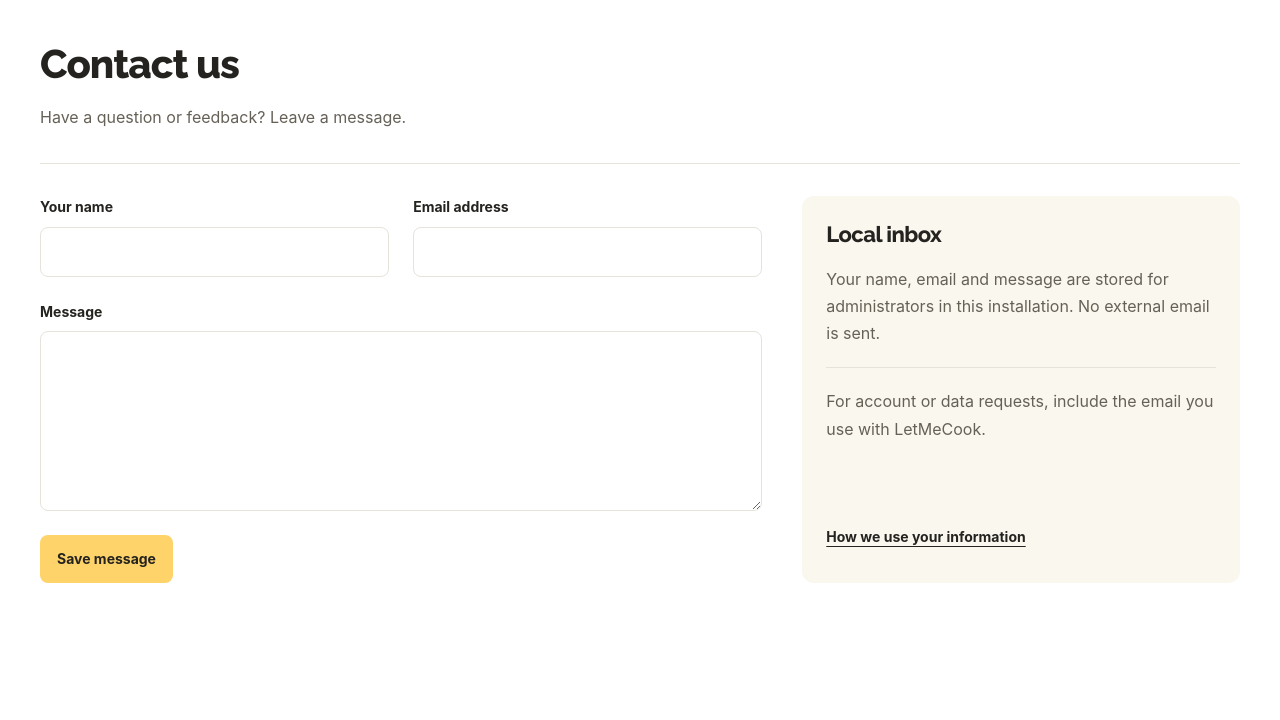
it: contact saves the labelled fields and shows confirmation after the response
Type "Kitchen User" into the field labelled "Your name" at (215, 252), box [40, 227, 389, 277]
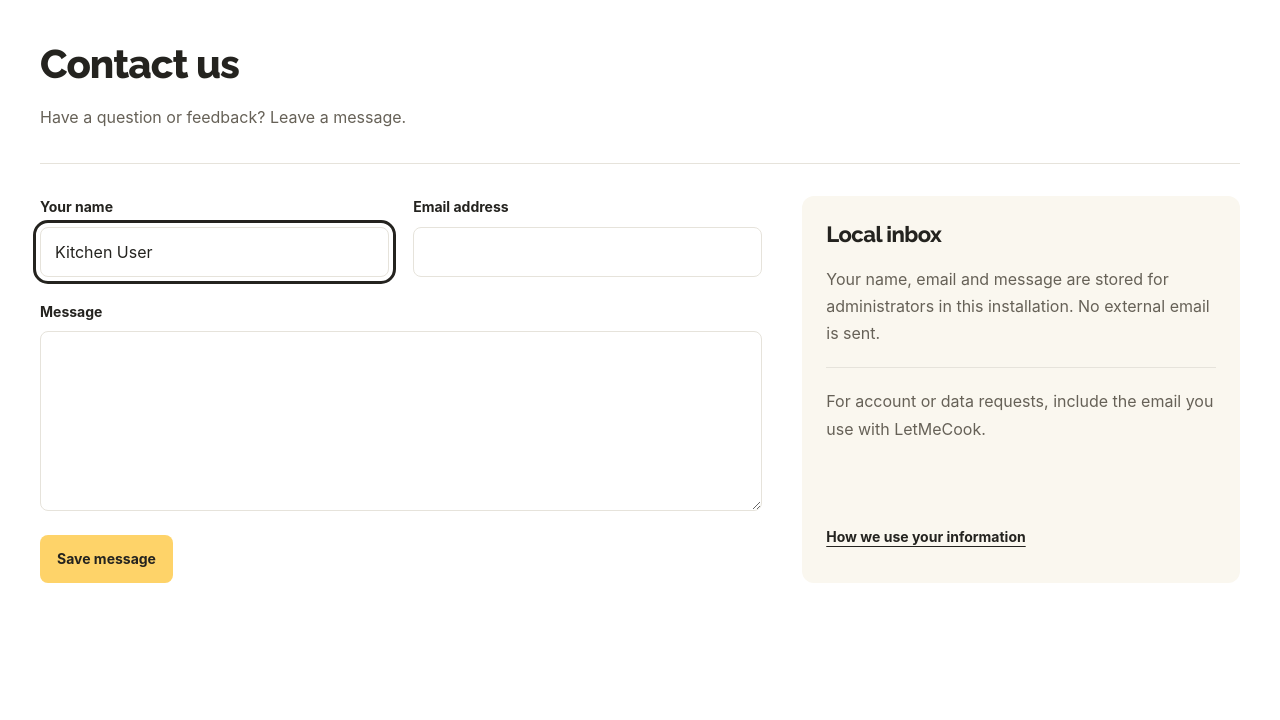
Type "cook@example.test" into the field labelled "Email address" at (588, 252), box [413, 227, 762, 277]
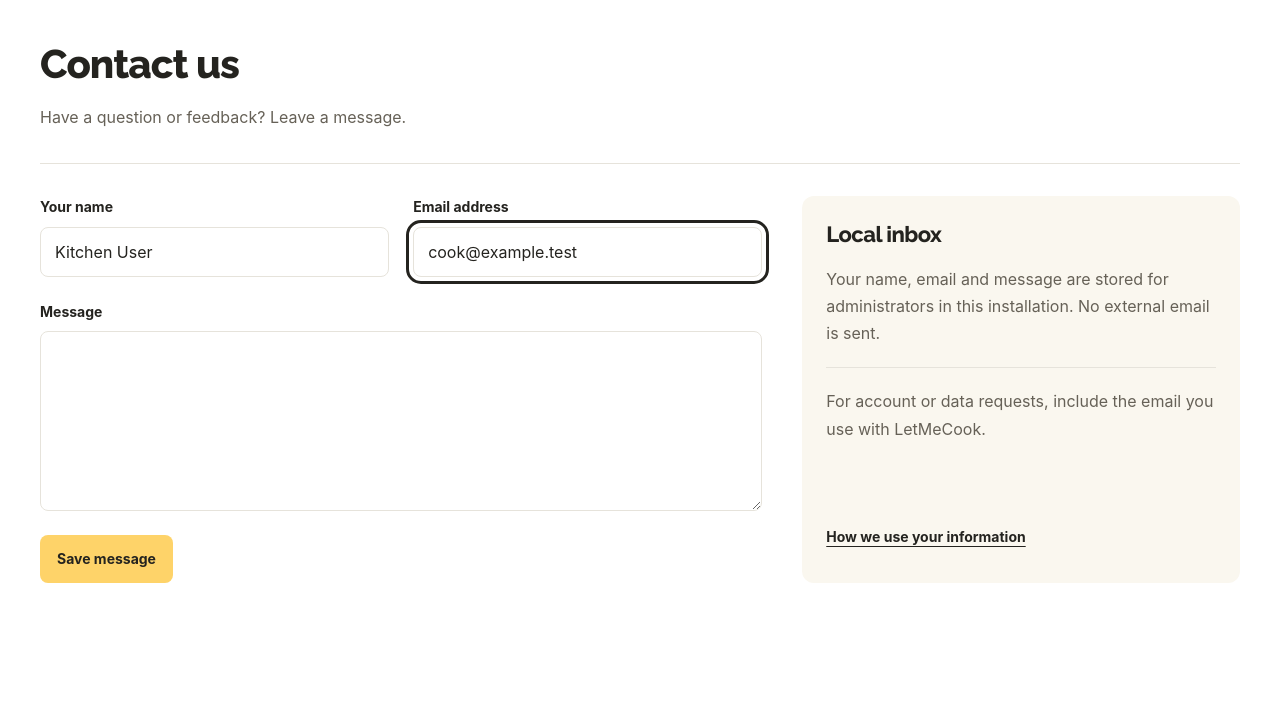
Type "Please help with my account." into the text box labelled "Message" at (401, 421), box [40, 331, 762, 511]
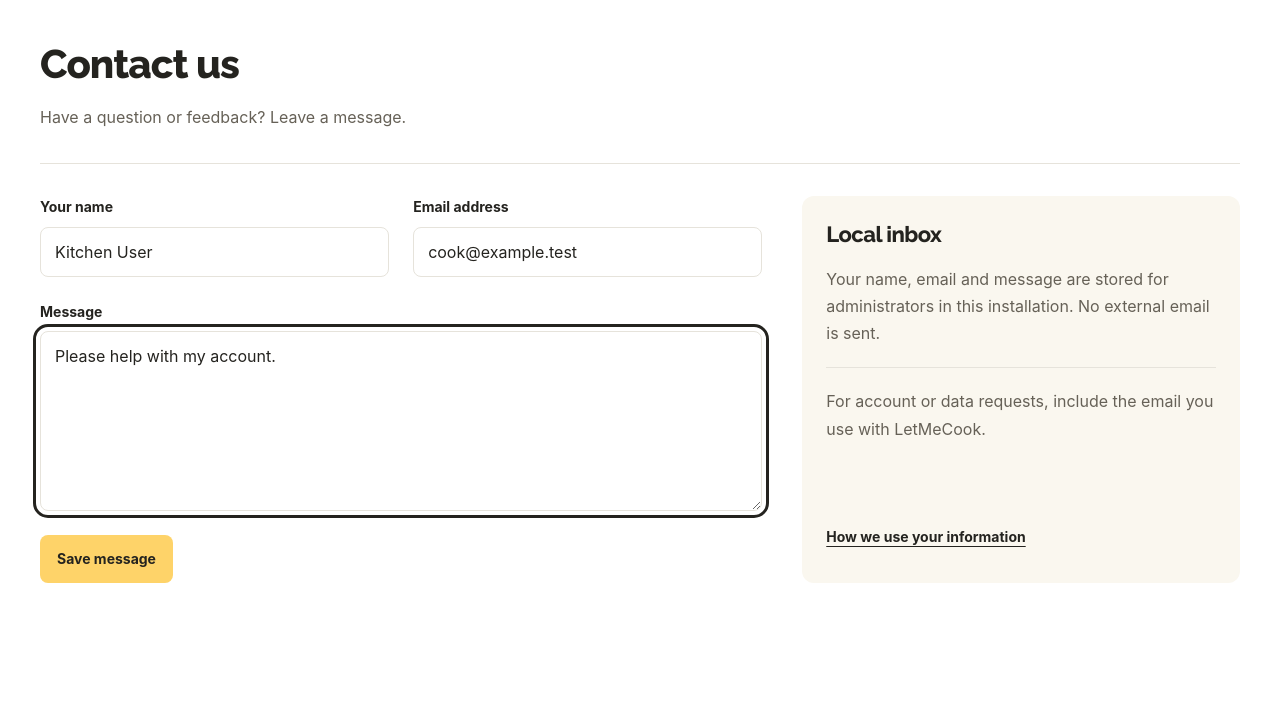
Click the button "Save message" at (106, 559), box [40, 535, 173, 583]
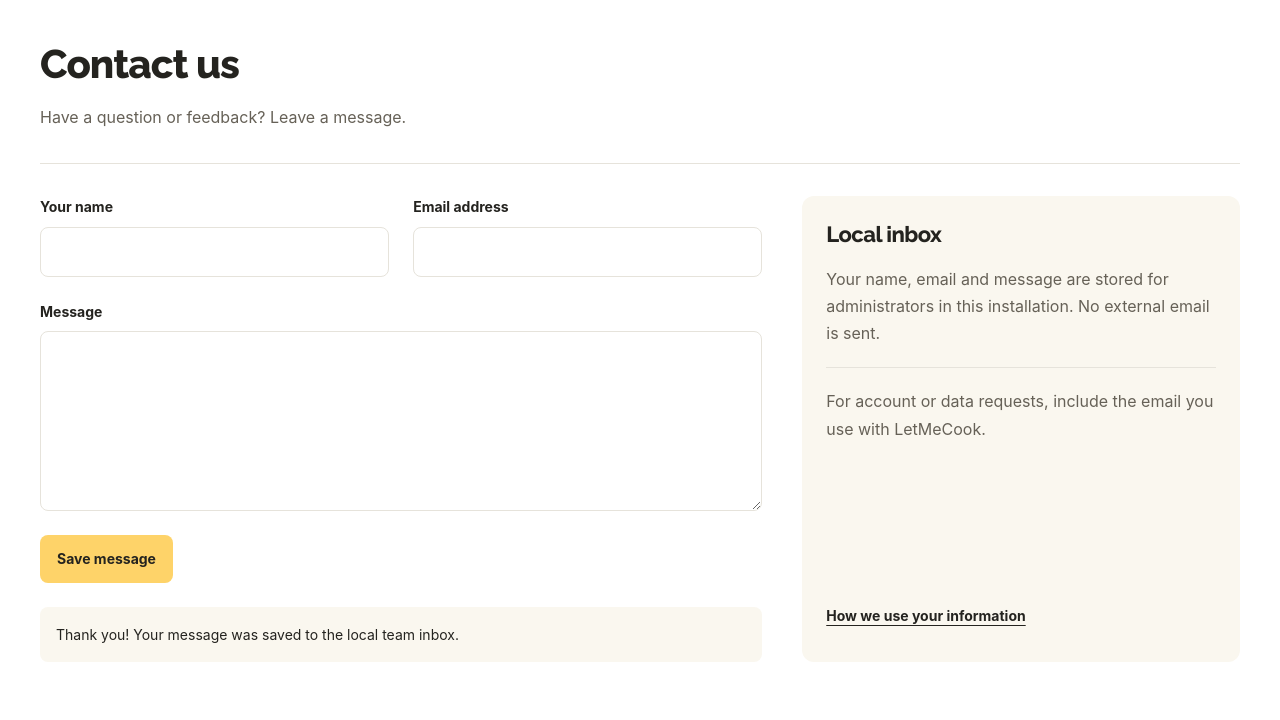
Check: the message shows "saved to the local team inbox", box [56, 626, 459, 643]
Check: the field labelled "Your name" is empty, box [40, 227, 389, 277]
